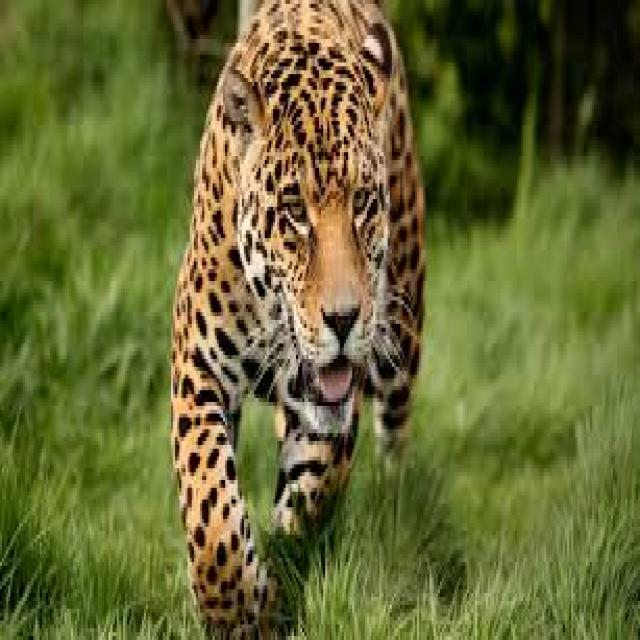Jaguar: (154, 0, 436, 640)
